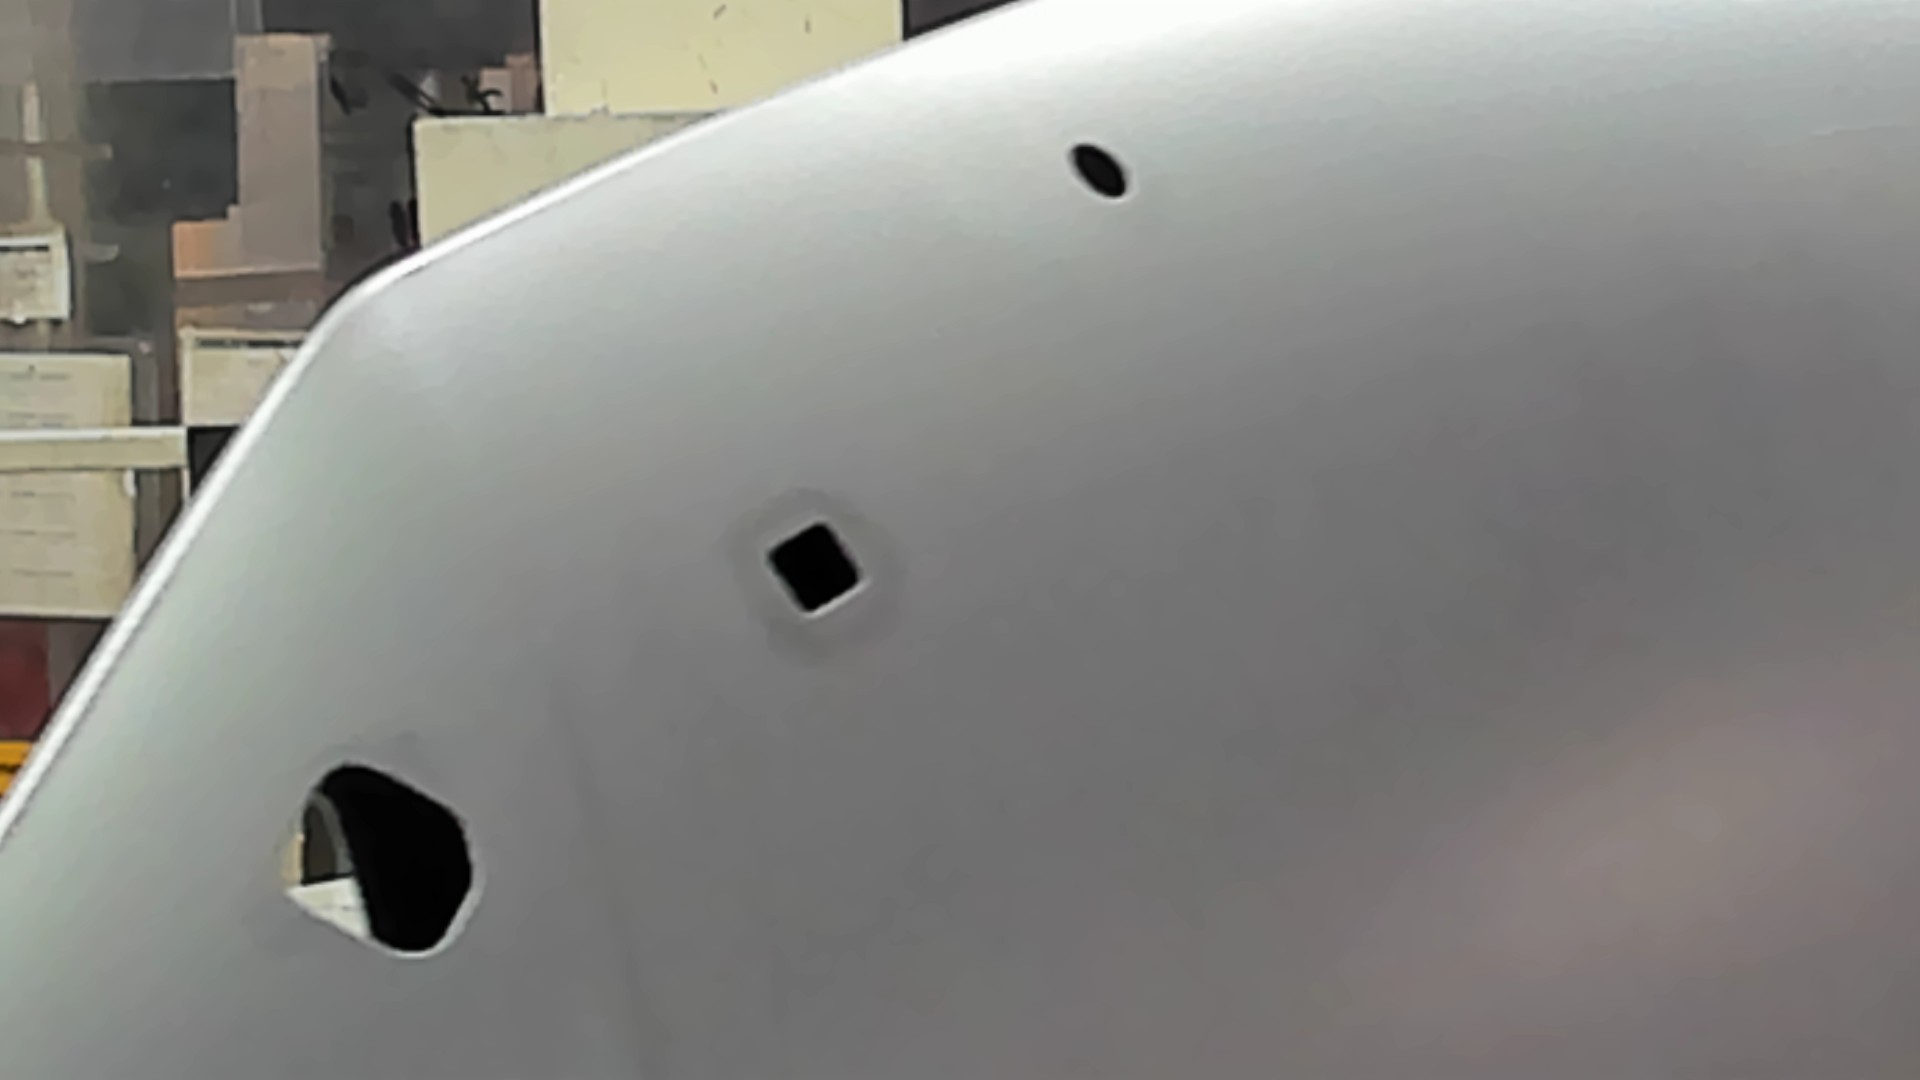chico: (1065, 135, 1137, 208)
grande: (268, 752, 487, 968)
mediano: (756, 513, 878, 622)
